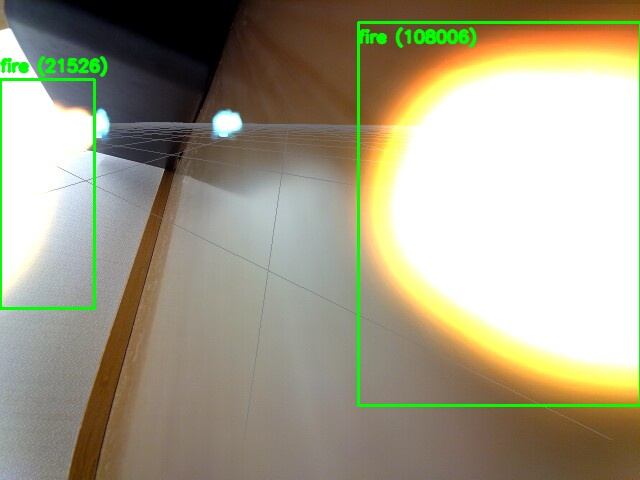fire: (358, 22, 640, 405), (0, 79, 94, 308)
